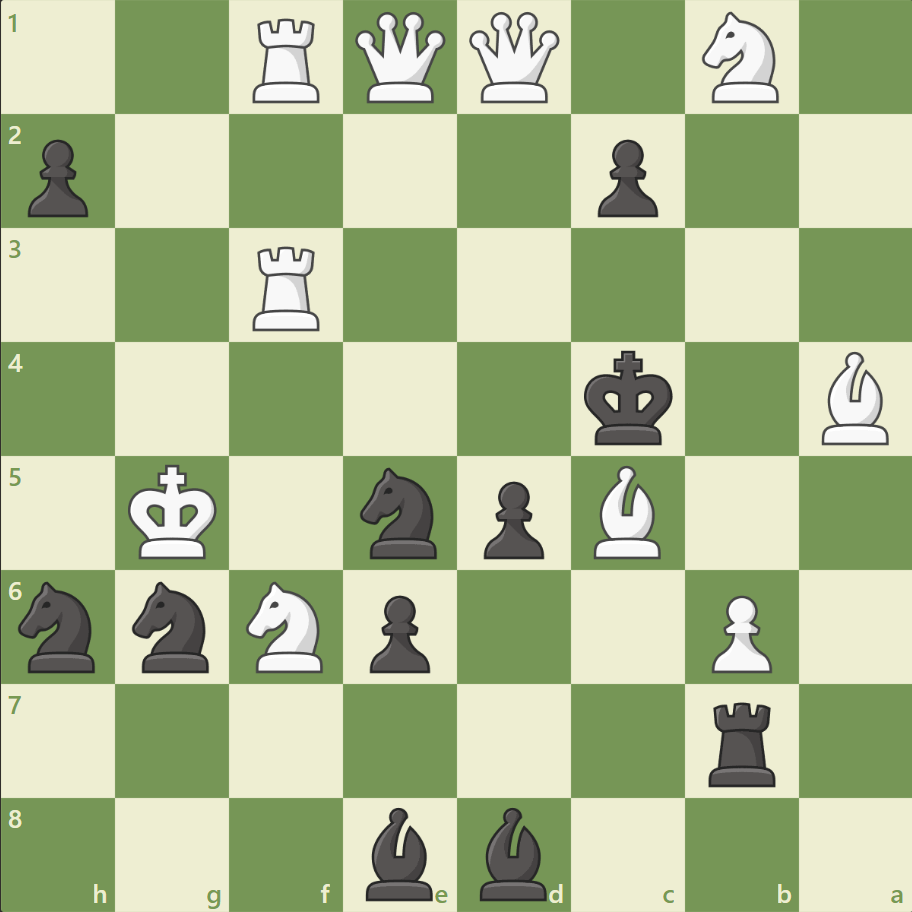B: (585, 460, 669, 563), (812, 347, 896, 449)
K: (124, 458, 224, 566)
N: (692, 7, 789, 110), (238, 575, 335, 677)
P: (701, 586, 776, 677)
Q: (464, 9, 563, 108), (351, 9, 450, 108)
R: (246, 239, 329, 336), (246, 12, 329, 109)
b: (471, 801, 555, 904), (358, 801, 442, 904)
k: (579, 344, 679, 452)
n: (351, 461, 449, 564), (124, 575, 222, 677), (11, 575, 108, 677)
p: (474, 473, 549, 564), (20, 132, 95, 223), (361, 586, 435, 677), (588, 132, 662, 223)
r: (700, 693, 783, 790)
